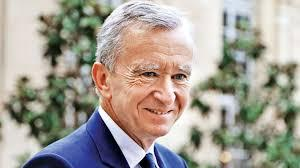Persons: (94, 4, 199, 135)
